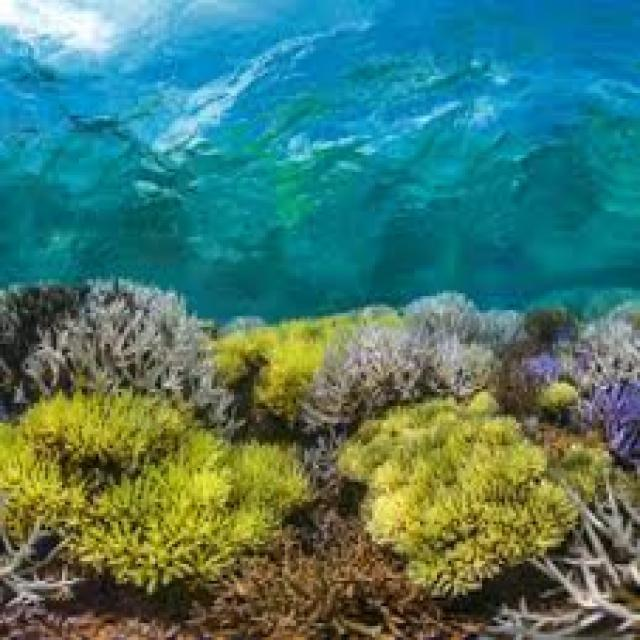Bleached: (32, 277, 205, 394), (317, 329, 477, 407), (506, 555, 639, 640), (404, 294, 522, 347), (3, 531, 71, 617), (581, 489, 640, 578), (562, 316, 637, 385)
Healthy: (3, 398, 315, 578), (326, 403, 588, 603), (207, 316, 393, 397), (605, 379, 640, 466), (543, 381, 582, 412), (523, 353, 560, 381)
